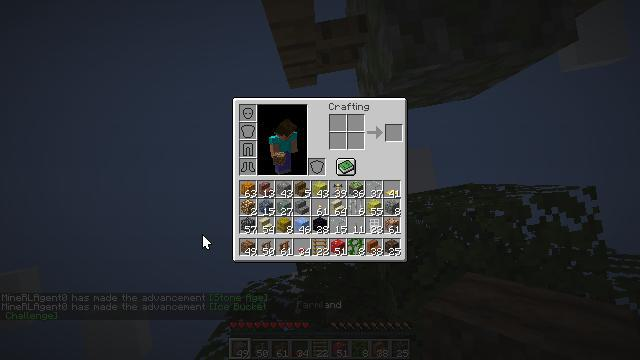cursor: (234, 202, 250, 212)
